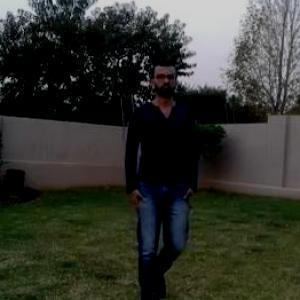follow: (127, 62, 197, 299)
